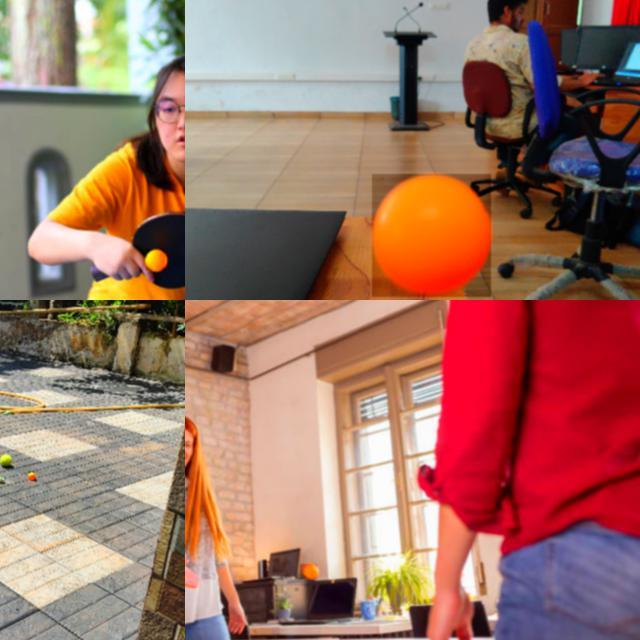ping-pong-ball: (372, 174, 492, 298), (146, 249, 166, 271), (300, 564, 318, 580), (28, 471, 36, 479)
